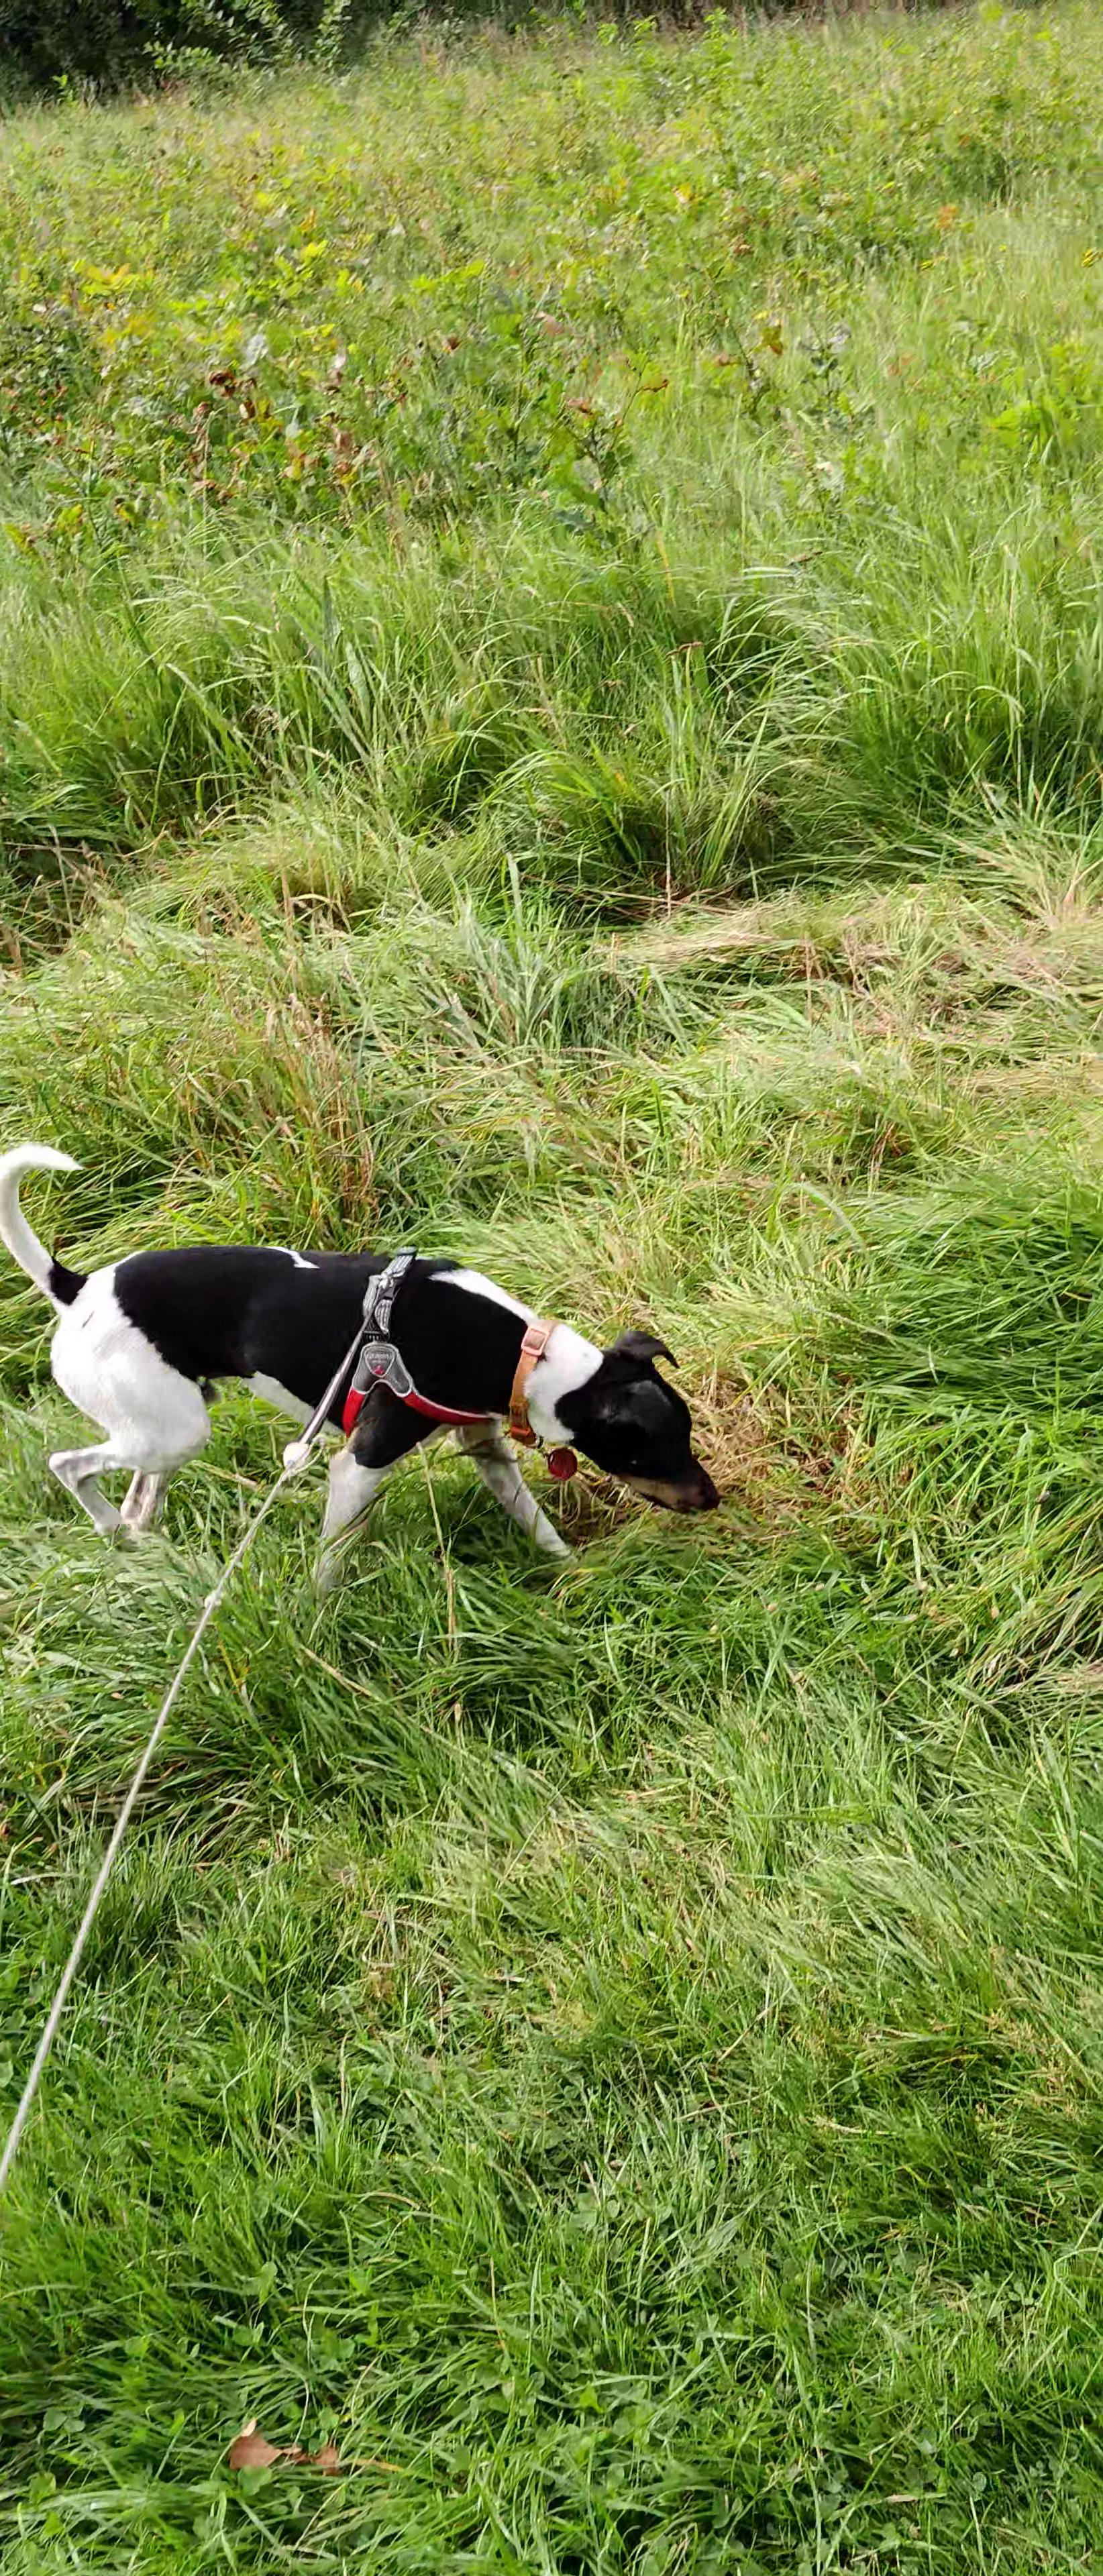Dog: (0, 1130, 738, 1587)
